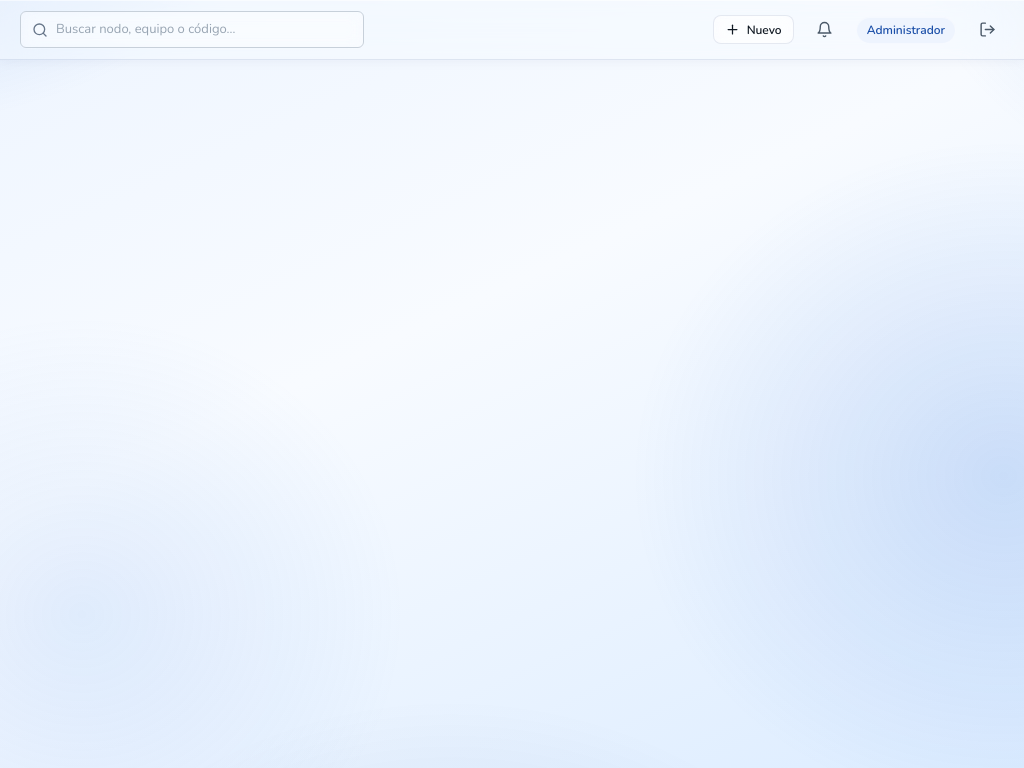
Test: Topbar · botón global "Nuevo" › ADMIN ve el botón y abre el formulario real de mantenimiento
Click the button "Nuevo" at [753, 30], box [713,15,794,44]
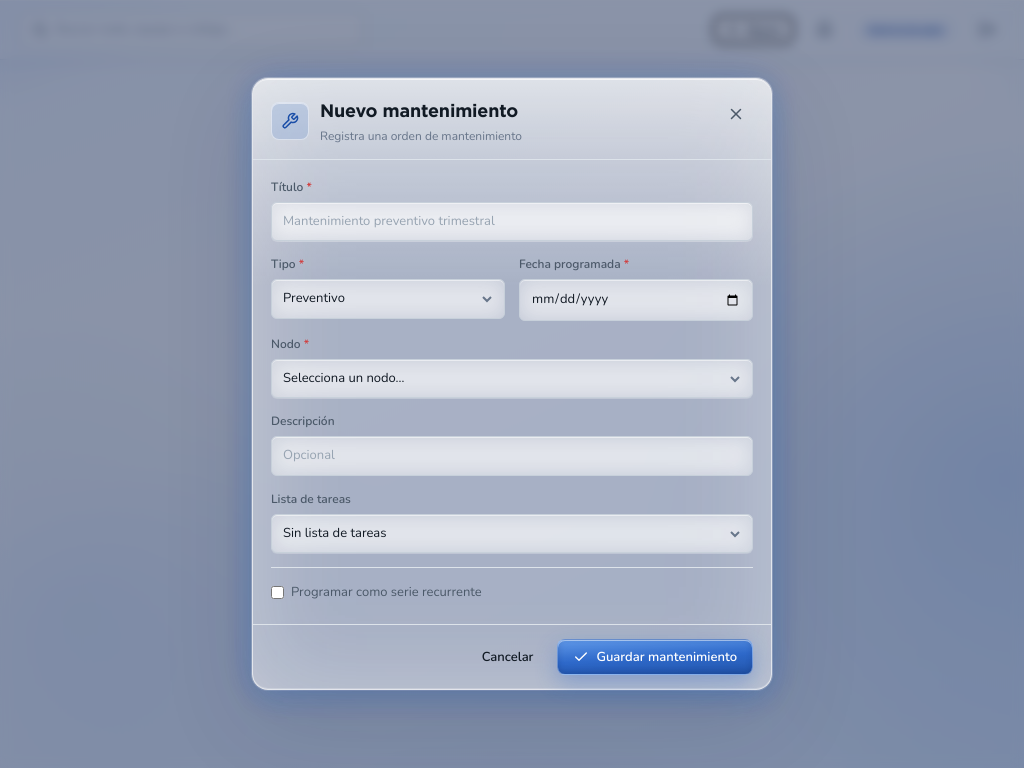
Check: the heading "Nuevo mantenimiento" is shown, box [320,97,522,124]
Check: the field with placeholder "Mantenimiento preventivo trimestral" is shown, box [271,202,753,241]
